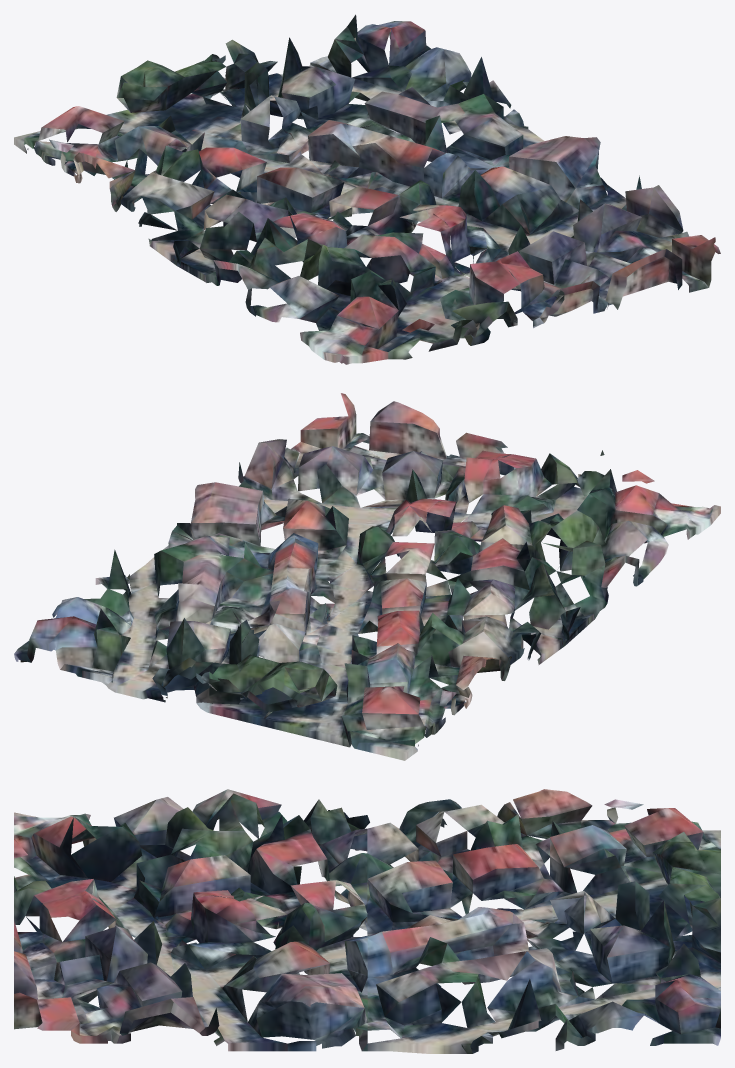
3 renders of one model, top to bottom at view 1: azimuth 30°, elevation 25°; view 2: azimuth 150°, elevation 25°; view 3: azimuth 270°, elevation 25°, orthographic. The views are drawn at different scales.
Visible parts, largest first — view 1: 304362727043617157_0; view 2: 304362727043617157_0; view 3: 304362727043617157_0.
Boxes of the visible parts, bbox=[...] form: 304362727043617157_0: bbox=[14, 14, 720, 364]; 304362727043617157_0: bbox=[14, 393, 720, 760]; 304362727043617157_0: bbox=[14, 789, 720, 1053].
Size of the model in its own units: 109 by 17.9 by 153.
1 material, 1 textured.
